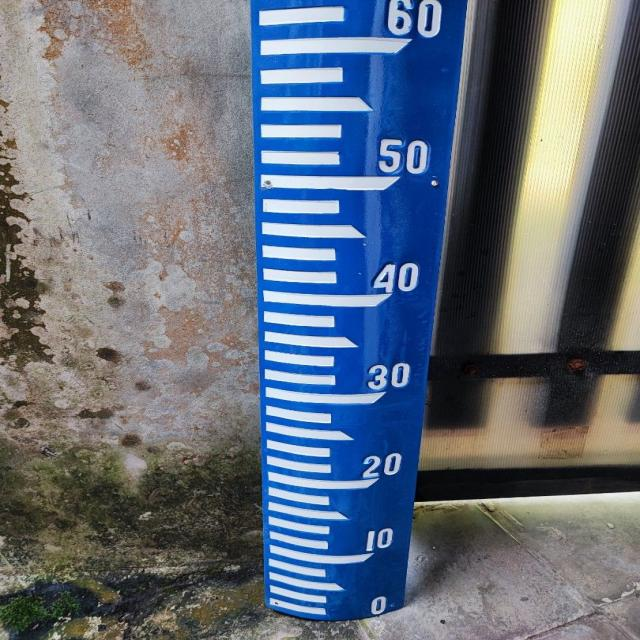ruler: (223, 0, 496, 631)
value: (368, 129, 439, 182), (375, 0, 453, 47), (358, 351, 414, 402), (363, 256, 429, 297), (352, 445, 409, 481), (356, 520, 402, 555), (355, 589, 396, 617)
